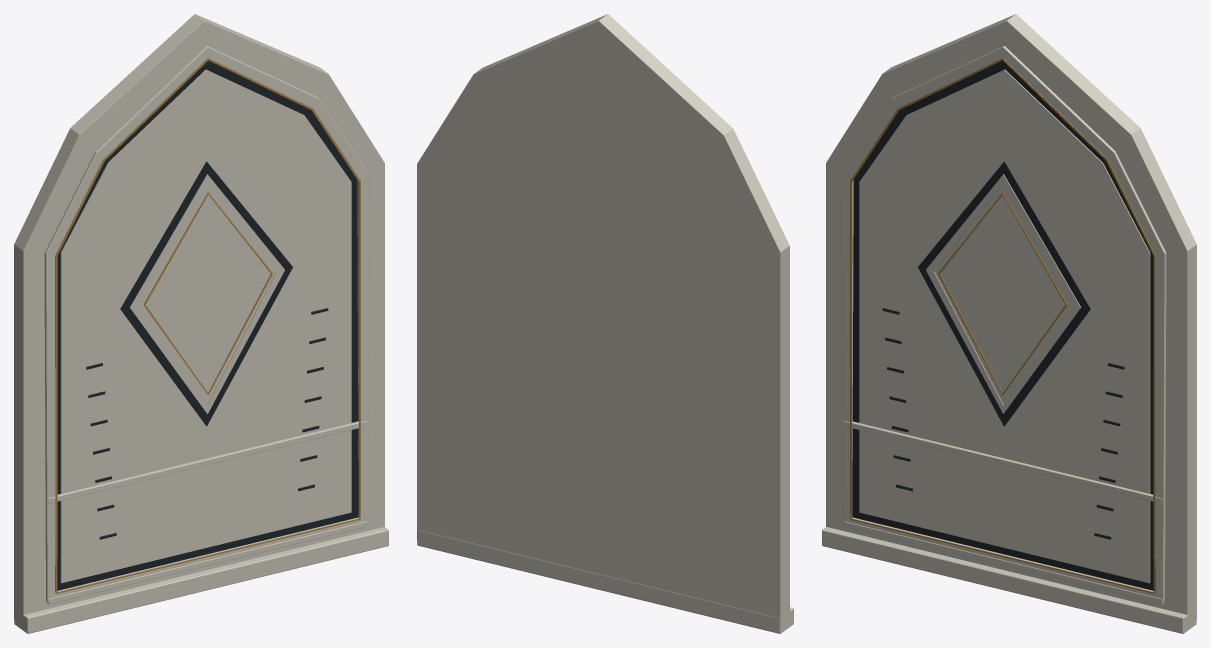
The model's file is SM_Aurelion_KIT_Z02ReliefPanel.fbx.
The picture shows the model from 3 angles, left to right: view 1: azimuth 30°, elevation 25°; view 2: azimuth 150°, elevation 25°; view 3: azimuth 330°, elevation 25°; orthographic projection.
Parts seen in each view (by area): view 1: SM_Aurelion_KIT_Z02ReliefPanel; view 2: SM_Aurelion_KIT_Z02ReliefPanel; view 3: SM_Aurelion_KIT_Z02ReliefPanel.
Boxes of the visible parts, x1,y1,x2,y2 form: SM_Aurelion_KIT_Z02ReliefPanel: [14, 14, 388, 633]; SM_Aurelion_KIT_Z02ReliefPanel: [417, 14, 793, 633]; SM_Aurelion_KIT_Z02ReliefPanel: [822, 14, 1196, 633].
Size of the model in its own units: 354 by 23.37 by 530.
